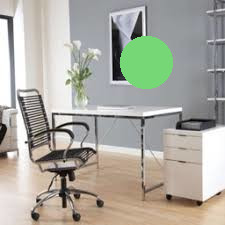focus: (112, 32, 178, 91)
